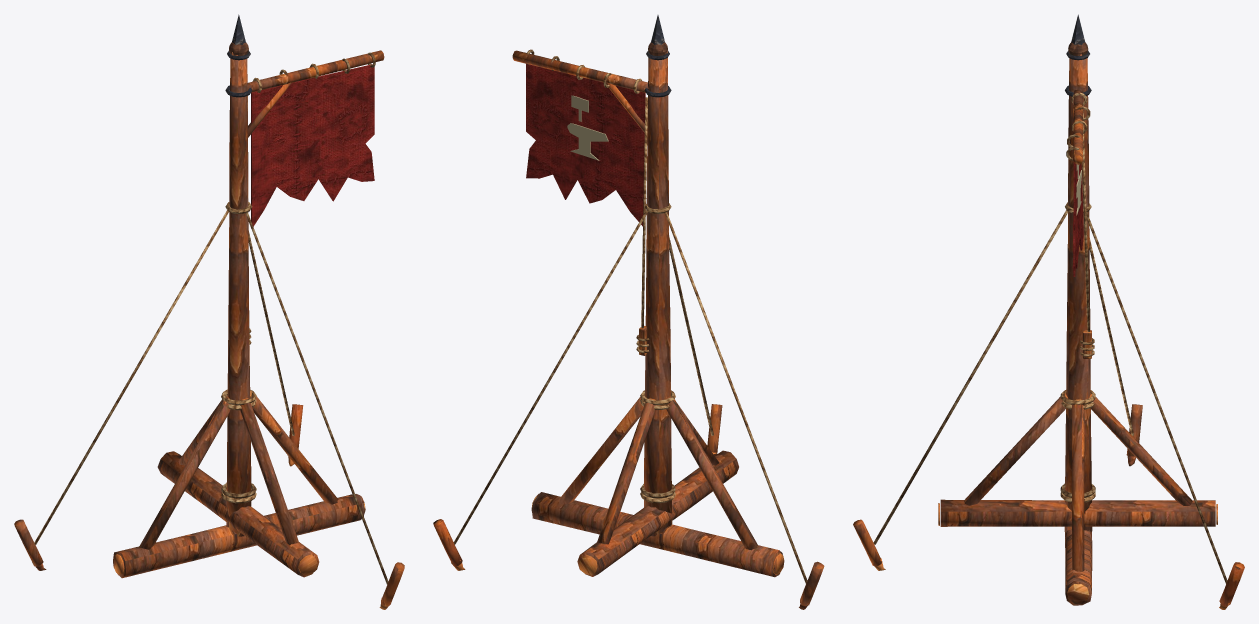
File: ro_flag_pole.glb
3 views of the same model, side by side, from view 1: azimuth 30°, elevation 25°; view 2: azimuth 150°, elevation 25°; view 3: azimuth 270°, elevation 25° (orthographic).
Parts seen in each view (by area): view 1: model; view 2: model; view 3: model.
Boxes of the visible parts, bbox=[...] form: model: bbox=[14, 14, 404, 609]; model: bbox=[433, 15, 824, 609]; model: bbox=[853, 14, 1244, 609].
Size of the model in its own units: 2.14 by 3.21 by 2.14.
Materials: 17 (16 with a texture image).
